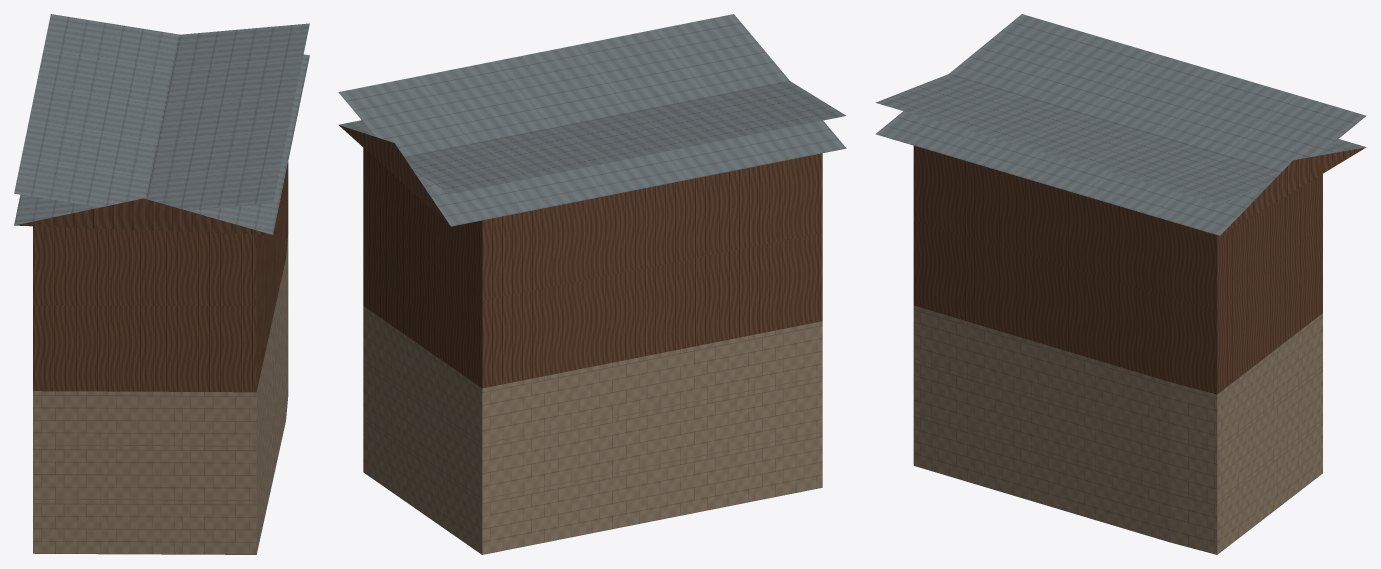
The model's file is bld_c5_27_476.gltf.
3 renders of one model, left to right at view 1: azimuth 30°, elevation 25°; view 2: azimuth 150°, elevation 25°; view 3: azimuth 270°, elevation 25°, orthographic. The views are drawn at different scales.
Parts seen in each view (by area): view 1: bld_c5_27_476; view 2: bld_c5_27_476; view 3: bld_c5_27_476.
Boxes of the visible parts, x1=… form: bld_c5_27_476: x1=14, y1=14, x2=309, y2=554; bld_c5_27_476: x1=338, y1=14, x2=846, y2=554; bld_c5_27_476: x1=875, y1=14, x2=1366, y2=554.
Size of the model in its own units: 13 by 11.5 by 14.17.
Materials: 4 (4 with a texture image).
